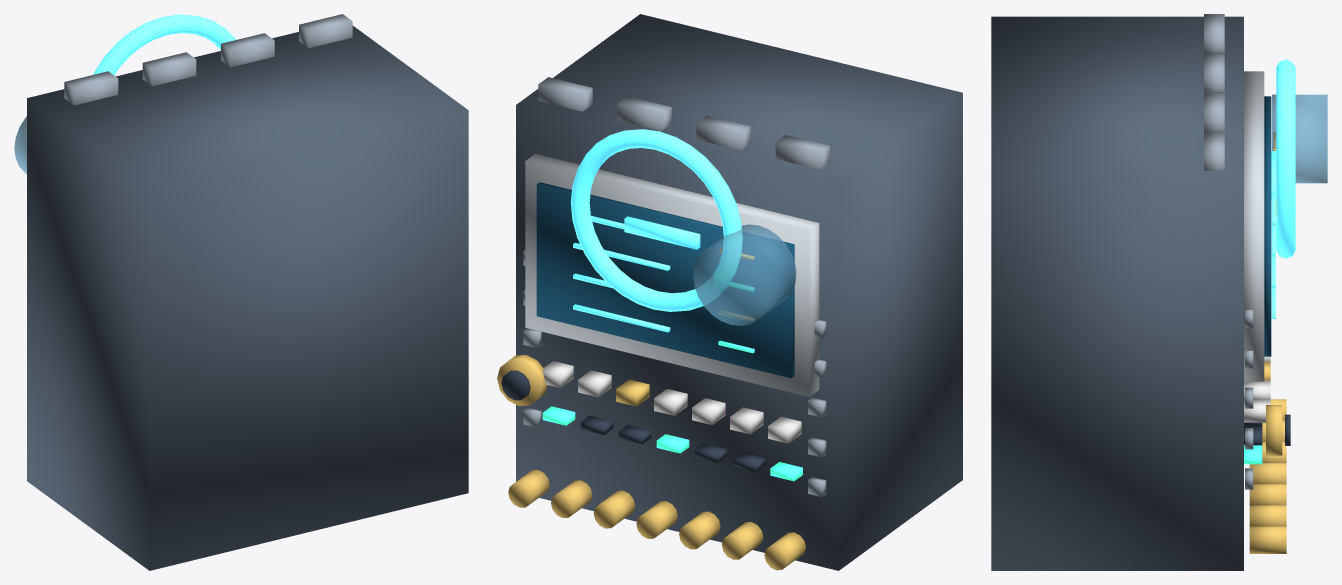
The model's file is L87_59_RotaryOpticalTelemetryLink_Fitted.fbx.
The picture shows the model from 3 angles, left to right: view 1: azimuth 30°, elevation 25°; view 2: azimuth 150°, elevation 25°; view 3: azimuth 270°, elevation 25°; orthographic projection. The views are drawn at different scales.
Visible parts, largest first — view 1: L87_RotaryOpticalTelemetryLink_Static__tint1A2430, L87_RotaryOpticalTelemetryLink_ANIM_ROTARY_OPTICAL_LINK__tin (×2); view 2: L87_RotaryOpticalTelemetryLink_Static__tint1A2430, L87_RotaryOpticalTelemetryLink_Static__tint041F3B, L87_RotaryOpticalTelemetryLink_ANIM_ROTARY_OPTICAL_LINK__tin (×2), L87_RotaryOpticalTelemetryLink_Static__tintB0BFCC, L87_RotaryOpticalTelemetryLink_Static__tintF5A62B, L87_RotaryOpticalTelemetryLink_Static__glass, L87_RotaryOpticalTelemetryLink_Static__tintE3E6E0, L87_RotaryOpticalTelemetryLink_Static__tint0A0F1A, L87_RotaryOpticalTelemetryLink_Static__tint617387, L87_RotaryOpticalTelemetryLink_Static__tint0FE88A, L87_RotaryOpticalTelemetryLink_Static__tint1CC7FF; view 3: L87_RotaryOpticalTelemetryLink_Static__tint1A2430, L87_RotaryOpticalTelemetryLink_ANIM_ROTARY_OPTICAL_LINK__tin (×2), L87_RotaryOpticalTelemetryLink_Static__tintB0BFCC, L87_RotaryOpticalTelemetryLink_Static__tintF5A62B, L87_RotaryOpticalTelemetryLink_Static__glass, L87_RotaryOpticalTelemetryLink_Static__tint041F3B, L87_RotaryOpticalTelemetryLink_Static__tintE3E6E0, L87_RotaryOpticalTelemetryLink_Static__tint617387, L87_RotaryOpticalTelemetryLink_Static__tint1CC7FF, L87_RotaryOpticalTelemetryLink_Static__tint0A0F1A.
Boxes of the visible parts, bbox=[...] form: L87_RotaryOpticalTelemetryLink_Static__tint1A2430: bbox=[27, 25, 468, 570]; L87_RotaryOpticalTelemetryLink_ANIM_ROTARY_OPTICAL_LINK__tin (×2): bbox=[64, 14, 352, 105]; L87_RotaryOpticalTelemetryLink_Static__tint1A2430: bbox=[516, 14, 962, 570]; L87_RotaryOpticalTelemetryLink_Static__tint041F3B: bbox=[536, 182, 794, 378]; L87_RotaryOpticalTelemetryLink_ANIM_ROTARY_OPTICAL_LINK__tin (×2): bbox=[538, 77, 829, 311]; L87_RotaryOpticalTelemetryLink_Static__tintB0BFCC: bbox=[525, 154, 819, 396]; L87_RotaryOpticalTelemetryLink_Static__tintF5A62B: bbox=[497, 248, 805, 570]; L87_RotaryOpticalTelemetryLink_Static__glass: bbox=[693, 224, 796, 325]; L87_RotaryOpticalTelemetryLink_Static__tintE3E6E0: bbox=[542, 361, 801, 443]; L87_RotaryOpticalTelemetryLink_Static__tint0A0F1A: bbox=[501, 370, 765, 471]; L87_RotaryOpticalTelemetryLink_Static__tint617387: bbox=[523, 250, 826, 496]; L87_RotaryOpticalTelemetryLink_Static__tint0FE88A: bbox=[542, 281, 802, 481]; L87_RotaryOpticalTelemetryLink_Static__tint1CC7FF: bbox=[573, 215, 670, 332]; L87_RotaryOpticalTelemetryLink_Static__tint1A2430: bbox=[991, 16, 1243, 570]; L87_RotaryOpticalTelemetryLink_ANIM_ROTARY_OPTICAL_LINK__tin (×2): bbox=[1204, 14, 1295, 258]; L87_RotaryOpticalTelemetryLink_Static__tintB0BFCC: bbox=[1244, 71, 1264, 381]; L87_RotaryOpticalTelemetryLink_Static__tintF5A62B: bbox=[1249, 132, 1286, 553]; L87_RotaryOpticalTelemetryLink_Static__glass: bbox=[1272, 94, 1327, 183]; L87_RotaryOpticalTelemetryLink_Static__tint041F3B: bbox=[1264, 96, 1271, 356]; L87_RotaryOpticalTelemetryLink_Static__tintE3E6E0: bbox=[1244, 356, 1270, 422]; L87_RotaryOpticalTelemetryLink_Static__tint617387: bbox=[1245, 310, 1253, 489]; L87_RotaryOpticalTelemetryLink_Static__tint1CC7FF: bbox=[1271, 195, 1275, 318]; L87_RotaryOpticalTelemetryLink_Static__tint0A0F1A: bbox=[1244, 414, 1290, 445].
Size of the model in its own units: 9.31 by 11.43 by 8.25.
